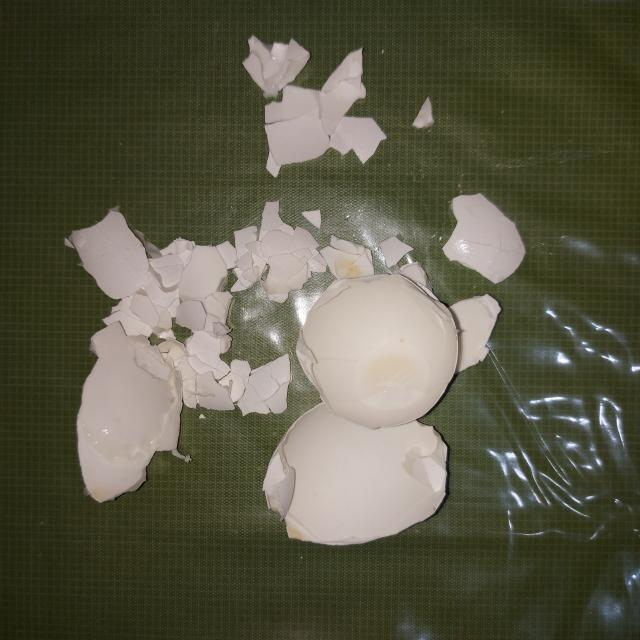egg shell: (262, 402, 452, 550), (296, 274, 462, 428), (153, 199, 322, 330), (77, 318, 182, 502), (171, 332, 289, 419), (312, 48, 394, 166), (62, 205, 155, 300), (440, 193, 527, 284), (264, 88, 332, 182), (242, 34, 312, 96), (413, 96, 436, 130)
